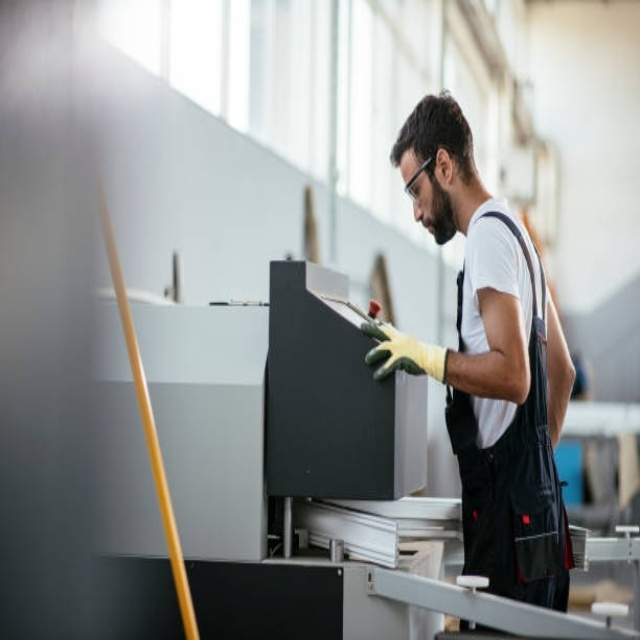Gafas: (404, 154, 437, 204)
Guantes: (359, 309, 453, 394)
Sin_mascara: (416, 212, 444, 248)
